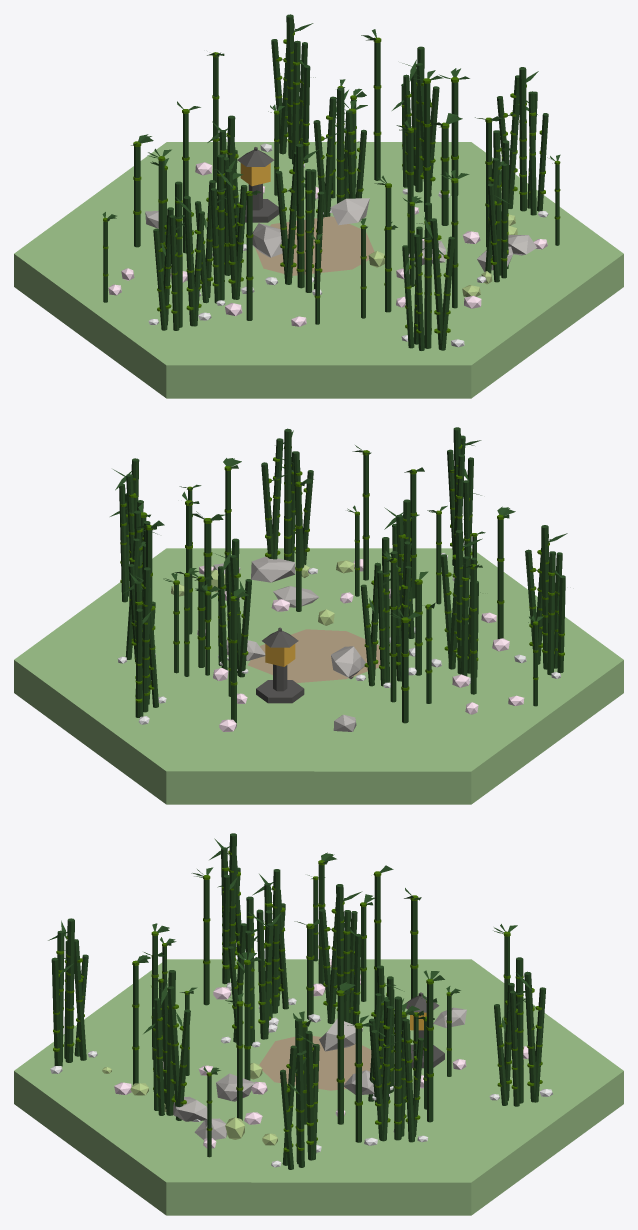
Rendered from bamboo_keystone_sprint3_pointY.glb.
The picture shows the model from 3 angles, top to bottom: view 1: azimuth 30°, elevation 25°; view 2: azimuth 150°, elevation 25°; view 3: azimuth 270°, elevation 25°; orthographic projection.
Parts seen in each view (by area): view 1: Cylinder.001, DirtPatch, Low Poly Bamboo Stalk.050, Low Poly Bamboo Stalk.093, Low Poly Bamboo Stalk.099, BambooStalk_1_2, Low Poly Bamboo Stalk.074, Low Poly Bamboo Stalk.063, Low Poly Bamboo Stalk.073, Low Poly Bamboo Stalk.057, Low Poly Bamboo Stalk.106, Low Poly Bamboo Stalk.094 (+43 smaller); view 2: Cylinder.001, DirtPatch, Low Poly Bamboo Stalk.087, Low Poly Bamboo Stalk.063, Rock_3, BambooStalk_3_3, Low Poly Bamboo Stalk.105, Low Poly Bamboo Stalk.074, Low Poly Bamboo Stalk.104, BambooStalk_2_3.005, Low Poly Bamboo Stalk.075, Lantern_Base (+38 smaller); view 3: Cylinder.001, DirtPatch, Low Poly Bamboo Stalk.099, Low Poly Bamboo Stalk.081, Low Poly Bamboo Stalk.074, BambooStalk_1_2, Low Poly Bamboo Stalk.094, Low Poly Bamboo Stalk.063, Low Poly Bamboo Stalk.082, Low Poly Bamboo Stalk.064, Low Poly Bamboo Stalk.049, BambooStalk_0_2 (+40 smaller).
Boxes of the visible parts, bbox=[...] form: Cylinder.001: bbox=[14, 142, 623, 398]; DirtPatch: bbox=[255, 216, 374, 275]; Low Poly Bamboo Stalk.050: bbox=[296, 144, 304, 288]; Low Poly Bamboo Stalk.093: bbox=[519, 67, 526, 211]; Low Poly Bamboo Stalk.099: bbox=[424, 202, 431, 348]; BambooStalk_1_2: bbox=[374, 42, 380, 180]; Low Poly Bamboo Stalk.074: bbox=[217, 154, 224, 300]; Low Poly Bamboo Stalk.063: bbox=[286, 14, 294, 158]; Low Poly Bamboo Stalk.073: bbox=[225, 169, 237, 299]; Low Poly Bamboo Stalk.057: bbox=[337, 87, 344, 203]; Low Poly Bamboo Stalk.106: bbox=[183, 196, 195, 326]; Low Poly Bamboo Stalk.094: bbox=[508, 75, 519, 208]; Cylinder.001: bbox=[14, 548, 623, 804]; DirtPatch: bbox=[247, 629, 389, 682]; Low Poly Bamboo Stalk.087: bbox=[284, 428, 291, 560]; Low Poly Bamboo Stalk.063: bbox=[142, 567, 150, 712]; Rock_3: bbox=[251, 556, 295, 582]; BambooStalk_3_3: bbox=[390, 562, 396, 702]; Low Poly Bamboo Stalk.105: bbox=[541, 525, 548, 669]; Low Poly Bamboo Stalk.074: bbox=[455, 530, 463, 674]; Low Poly Bamboo Stalk.104: bbox=[547, 551, 555, 675]; BambooStalk_2_3.005: bbox=[470, 569, 476, 694]; Low Poly Bamboo Stalk.075: bbox=[461, 556, 469, 676]; Lantern_Base: bbox=[256, 680, 304, 703]; Cylinder.001: bbox=[14, 959, 623, 1215]; DirtPatch: bbox=[259, 1036, 371, 1090]; Low Poly Bamboo Stalk.099: bbox=[65, 918, 74, 1062]; Low Poly Bamboo Stalk.081: bbox=[394, 996, 401, 1140]; Low Poly Bamboo Stalk.074: bbox=[272, 869, 280, 1013]; BambooStalk_1_2: bbox=[427, 983, 433, 1122]; Low Poly Bamboo Stalk.094: bbox=[305, 1030, 314, 1160]; Low Poly Bamboo Stalk.063: bbox=[516, 957, 523, 1103]; Low Poly Bamboo Stalk.082: bbox=[380, 1006, 393, 1141]; Low Poly Bamboo Stalk.064: bbox=[524, 971, 536, 1102]; Low Poly Bamboo Stalk.049: bbox=[256, 909, 266, 1039]; BambooStalk_0_2: bbox=[337, 995, 343, 1124].
Size of the model in its own units: 4.33 by 1.71 by 5.
